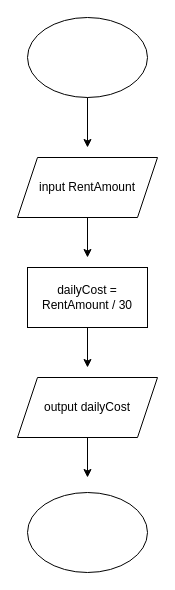
This 175x590 diagram has some shape labels left out. Each missing label, with the centre of its shape:
"end" goes at point (87, 532).
"start" goes at point (87, 57).
